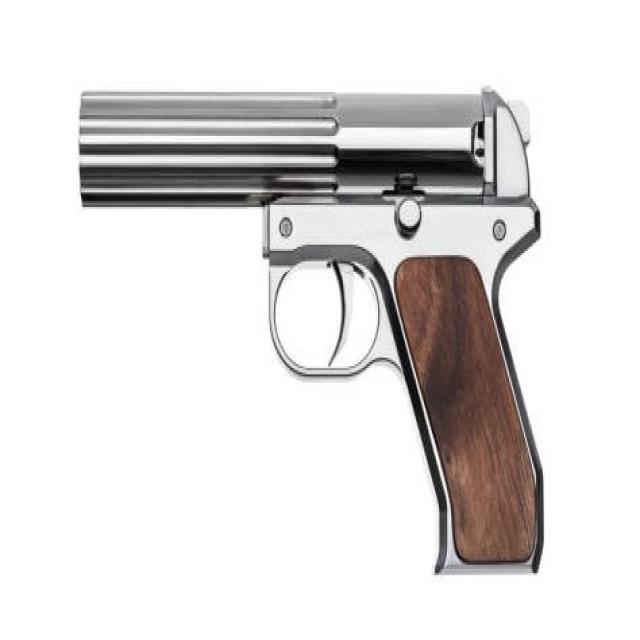pistol: (75, 82, 549, 574)
